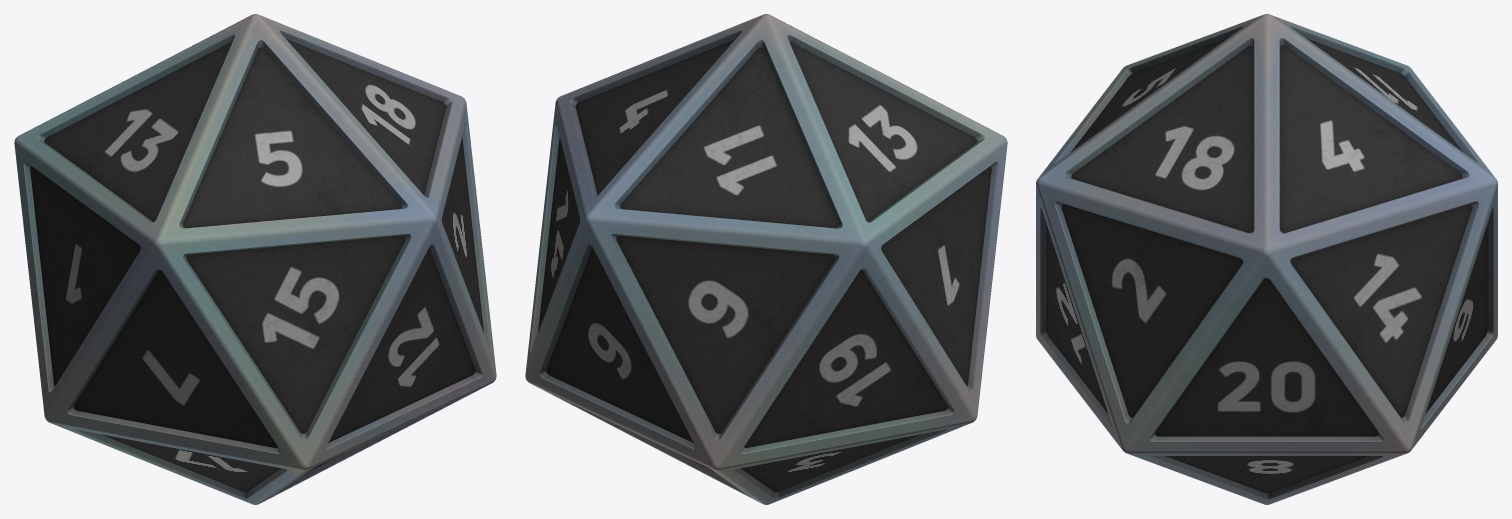
3 renders of one model, left to right at view 1: azimuth 30°, elevation 25°; view 2: azimuth 150°, elevation 25°; view 3: azimuth 270°, elevation 25°, orthographic.
Visible parts, largest first — view 1: D20_0; view 2: D20_0; view 3: D20_0.
Part boxes in pixels (bbox=[...]): D20_0: bbox=[14, 14, 496, 504]; D20_0: bbox=[525, 14, 1007, 504]; D20_0: bbox=[1036, 14, 1497, 504].
Size of the model in its own units: 0.1781 by 0.1986 by 0.1697.
Materials: 1 (1 with a texture image).
